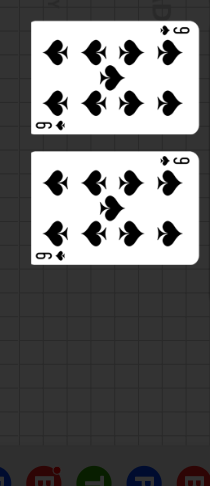9S: (158, 155, 191, 168), (34, 249, 67, 262)
